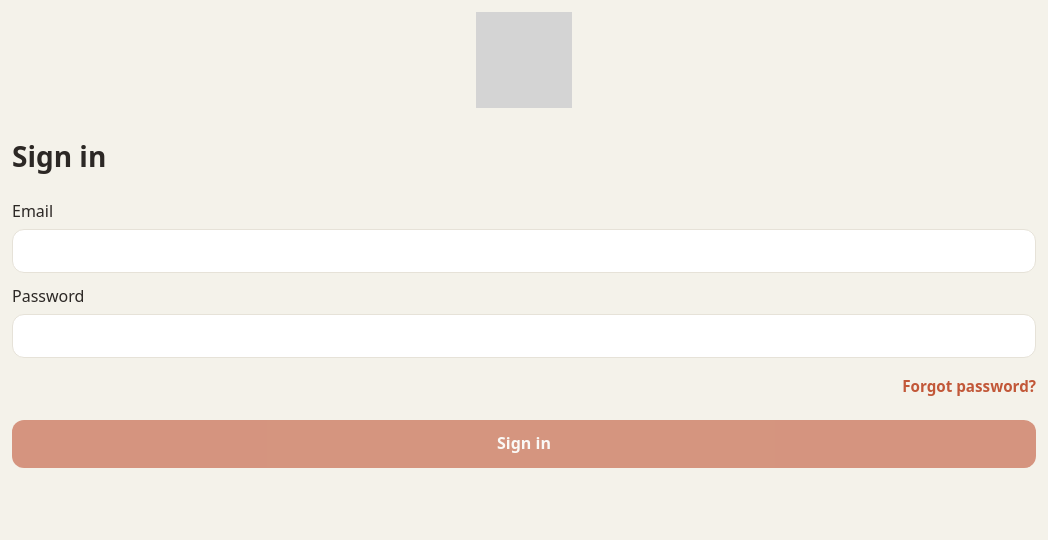
Scenario: LoginPage › shows the backend's generic error verbatim and stays on the page
The image size is (1048, 540).
Type "a@b.c" into the field labelled "Email" at [524, 251], box x1=12 y1=229 x2=1036 y2=273
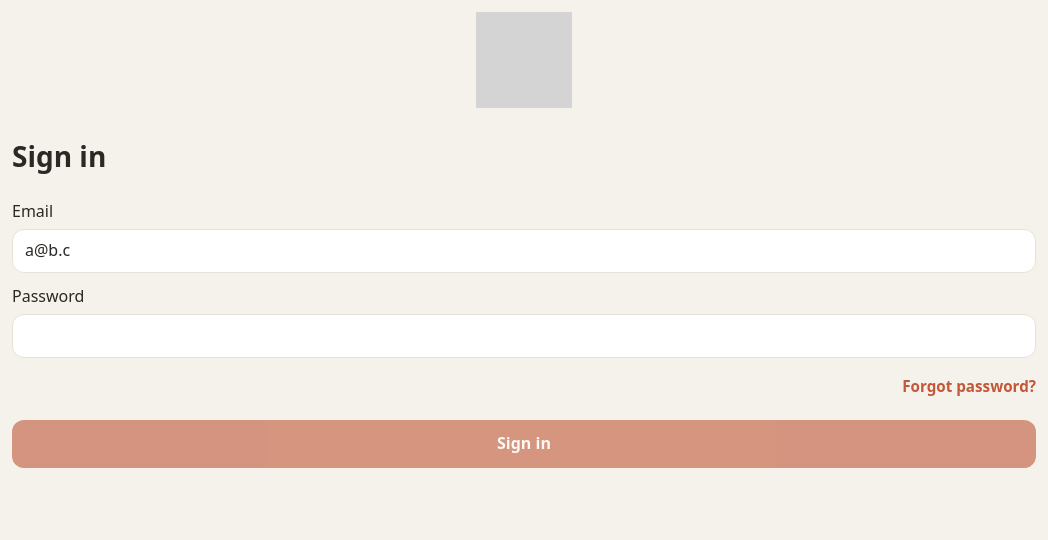
Type "wrong" into the password field labelled "Password" at [524, 336], box x1=12 y1=314 x2=1036 y2=358
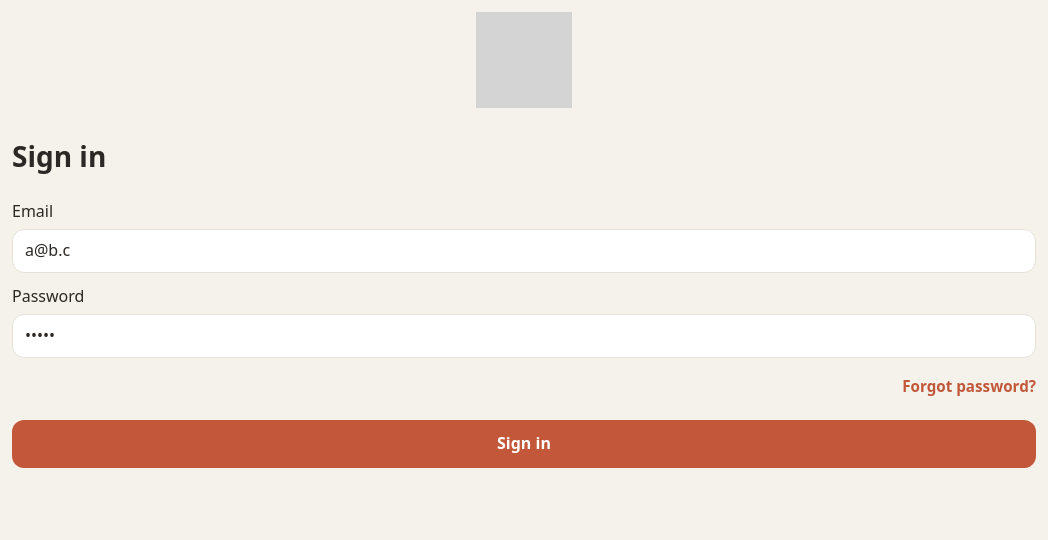
Click the button "Sign in" at [524, 444], box x1=12 y1=420 x2=1036 y2=468
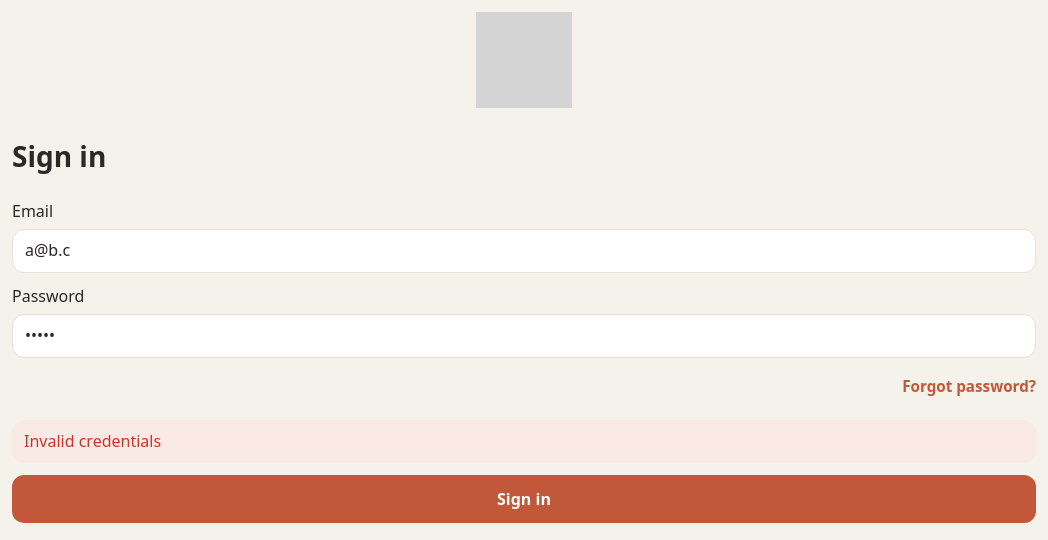
Check: the message reads "Invalid credentials", box x1=24 y1=430 x2=161 y2=452
